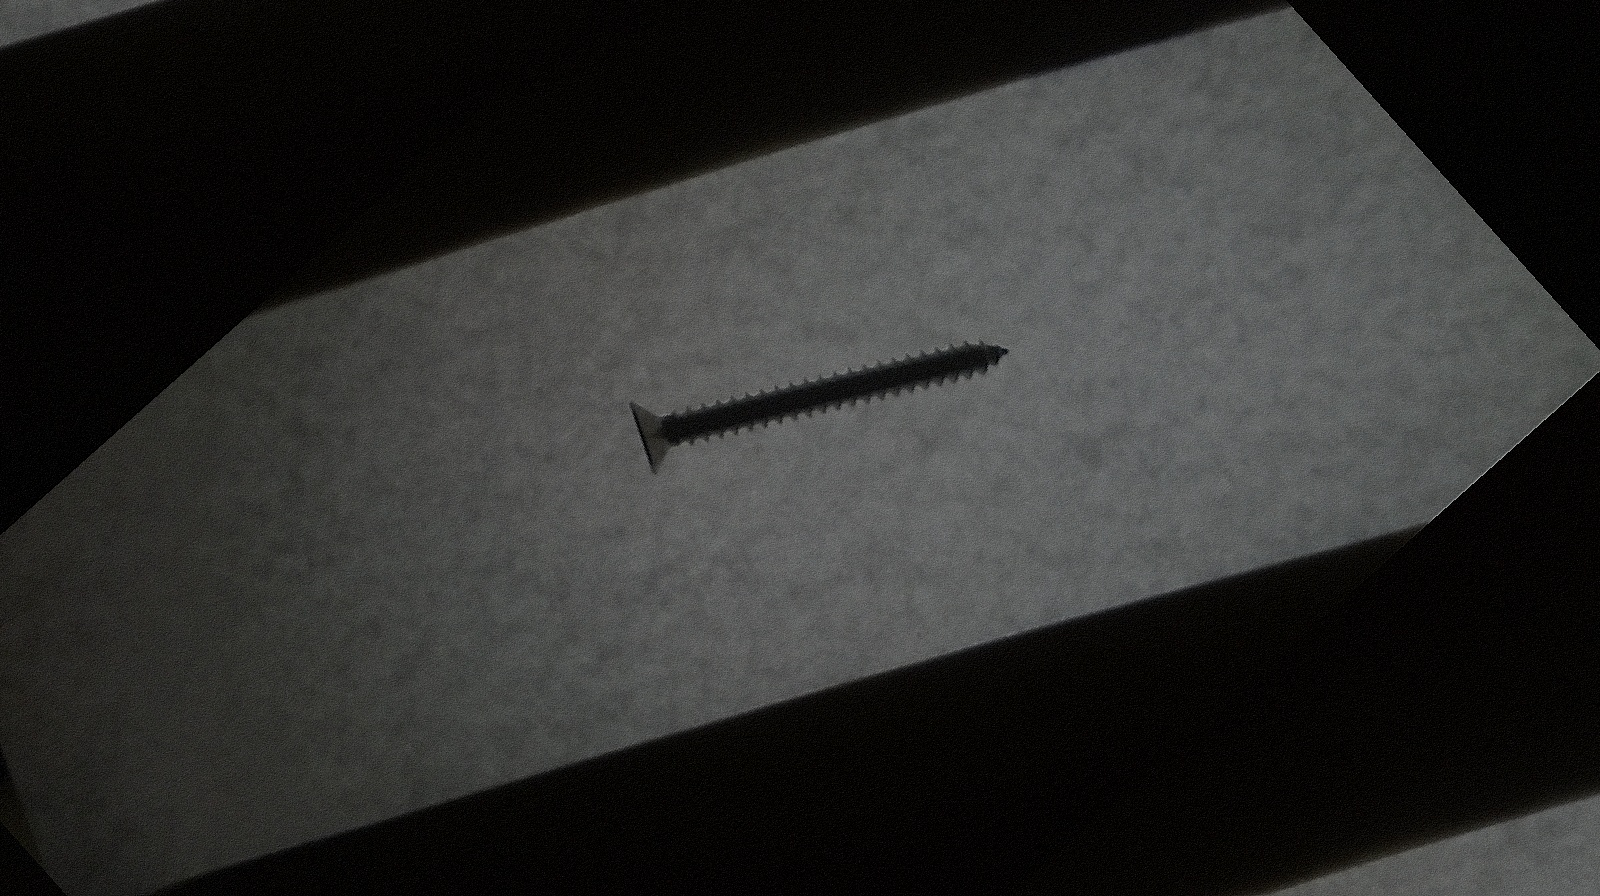S002: (603, 186, 1016, 586)
